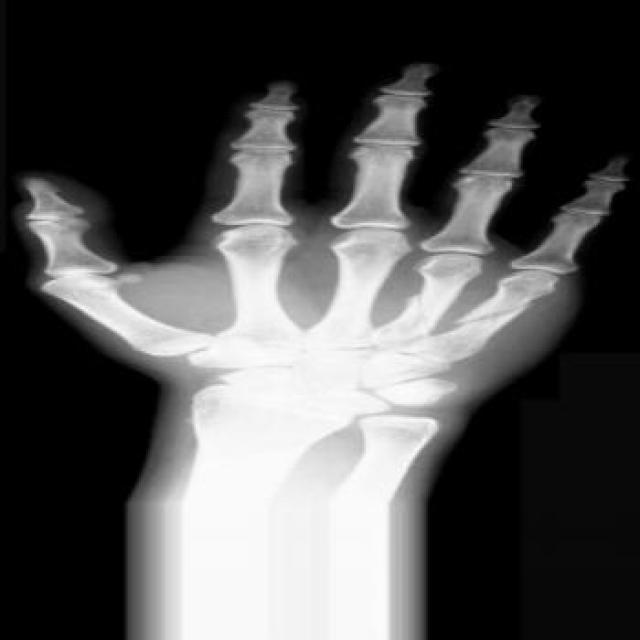Fracture: (459, 294, 541, 334), (397, 289, 437, 320)
